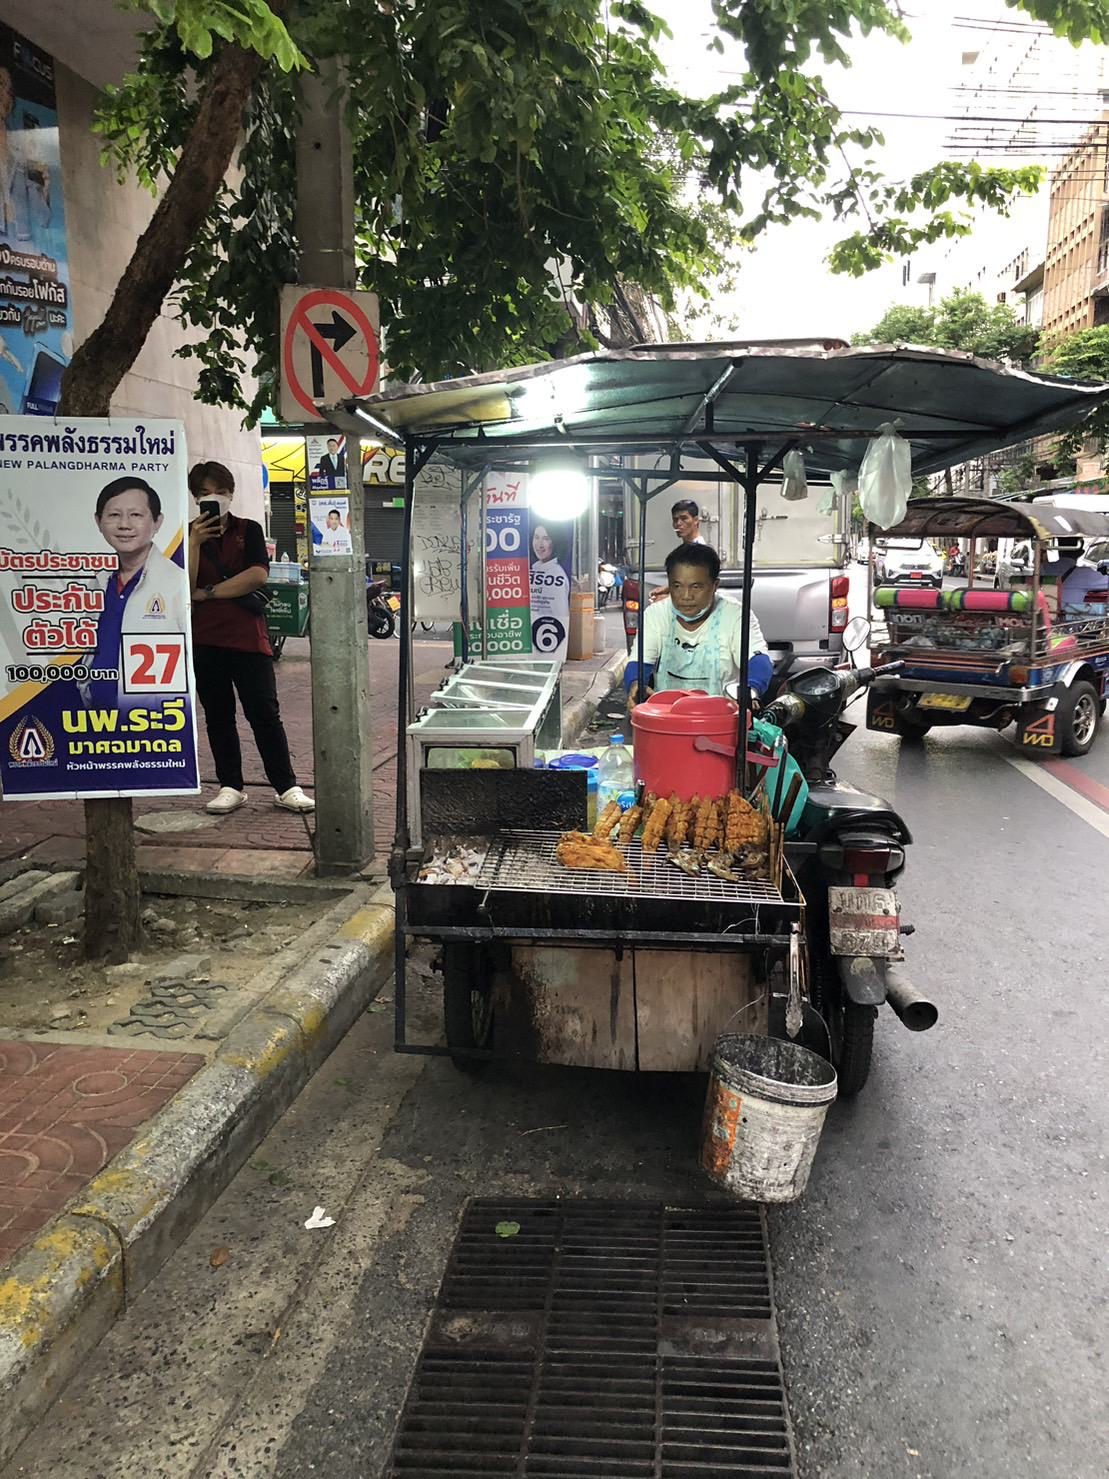Banner: (0, 417, 199, 799), (469, 457, 570, 654)
